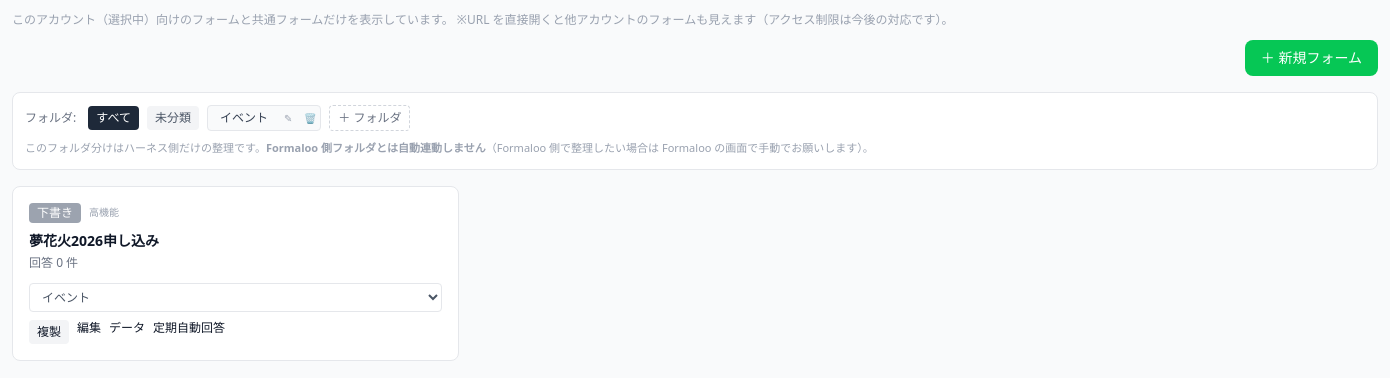
Scenario: フォーム一覧の複製操作 › 特定フォルダで複製すると同じフォルダを再取得してコピーを表示する
Click the button with test id "folder-item-folder-a" at (244, 118), box 212,106 -> 276,130
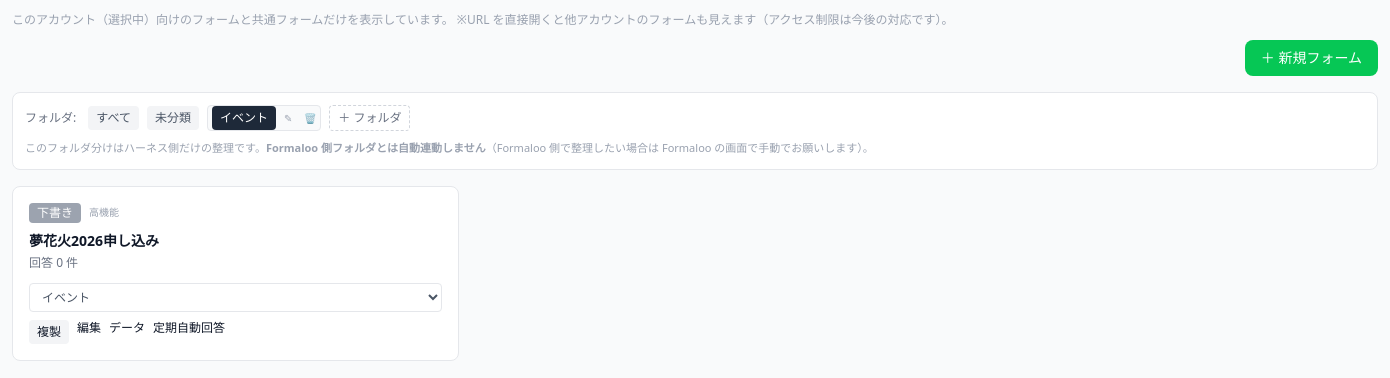
Expected: the element with test id "form-card-source-a" is shown, 12,186 -> 459,361
Click the button with test id "duplicate-source-a" at (49, 332), box 29,320 -> 69,344
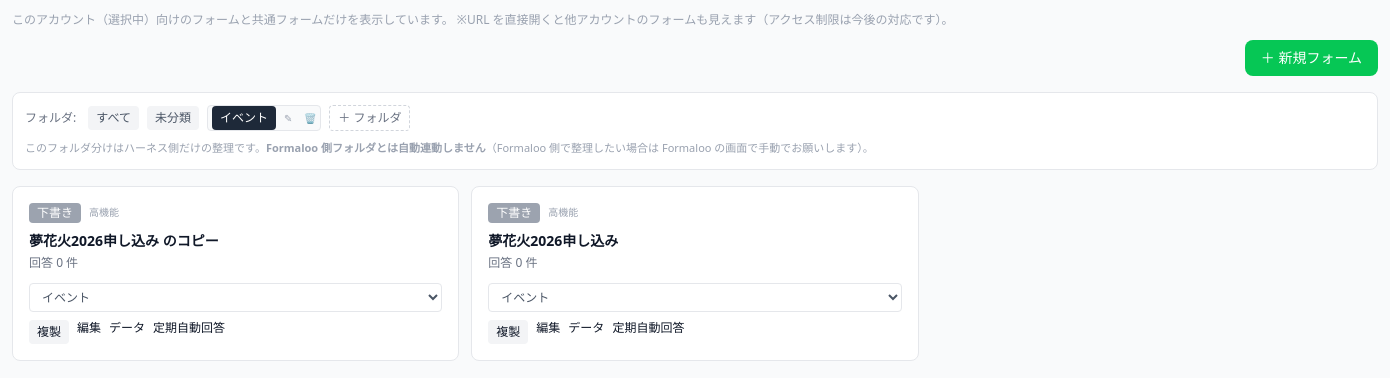
Now the element with test id "form-card-copy-a" is shown, box 12,186 -> 459,361
